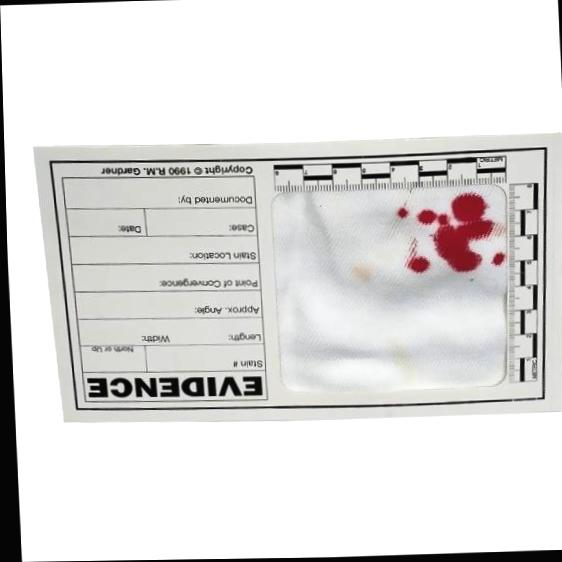Fire: (416, 194, 493, 273), (406, 258, 427, 274), (491, 255, 503, 267), (396, 209, 406, 218)
